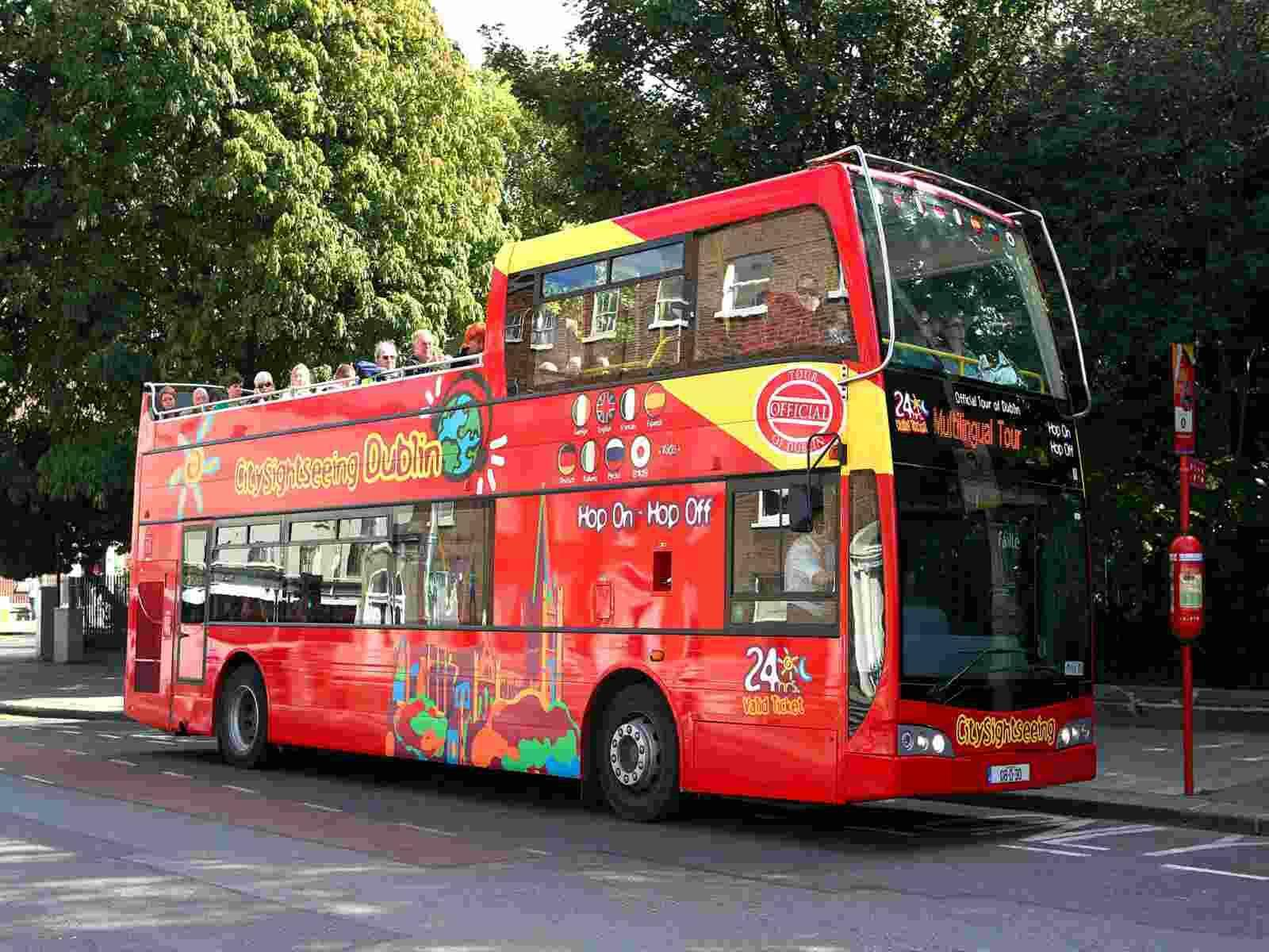Bus: (119, 152, 1100, 824)
